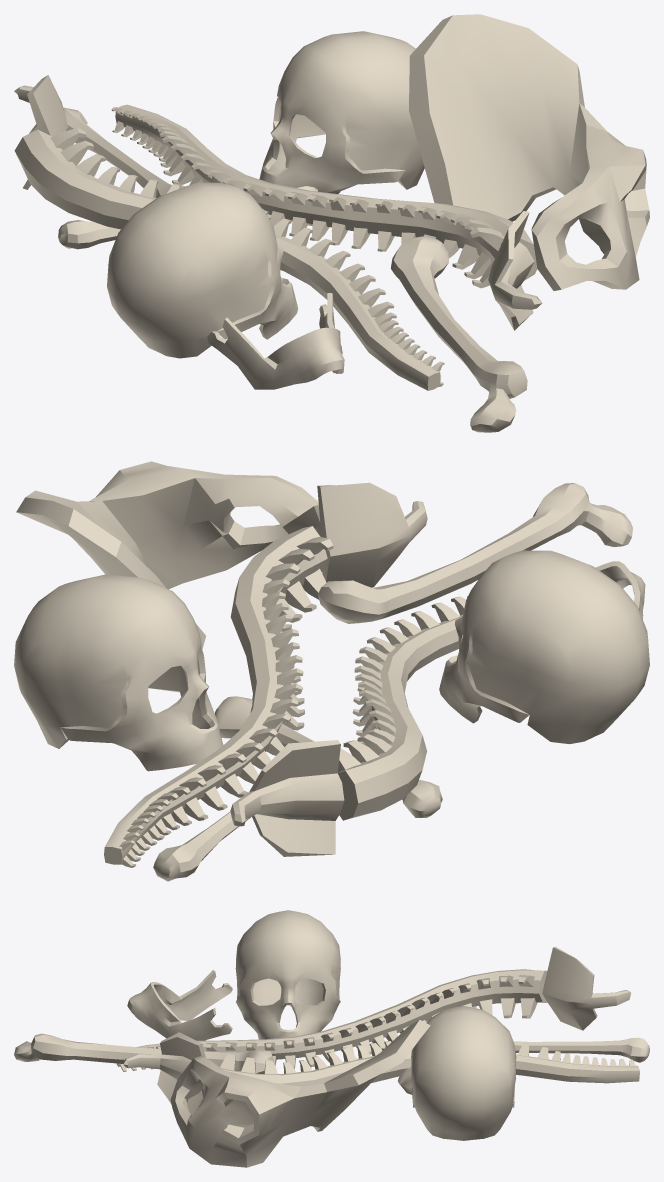
Rendered from BonePIle_2.glb.
The picture shows the model from 3 angles, top to bottom: view 1: azimuth 30°, elevation 25°; view 2: azimuth 150°, elevation 25°; view 3: azimuth 270°, elevation 25°; orthographic projection. The views are drawn at different scales.
Visible parts, largest first — view 1: BonePIle_2; view 2: BonePIle_2; view 3: BonePIle_2.
Part boxes in pixels (left/top/right/bottom): BonePIle_2: left=14, top=14, right=649, bottom=432; BonePIle_2: left=14, top=461, right=649, bottom=881; BonePIle_2: left=14, top=910, right=649, bottom=1167.
Bounding box in the file's own units: 0.7902 × 0.2564 × 1.15.
